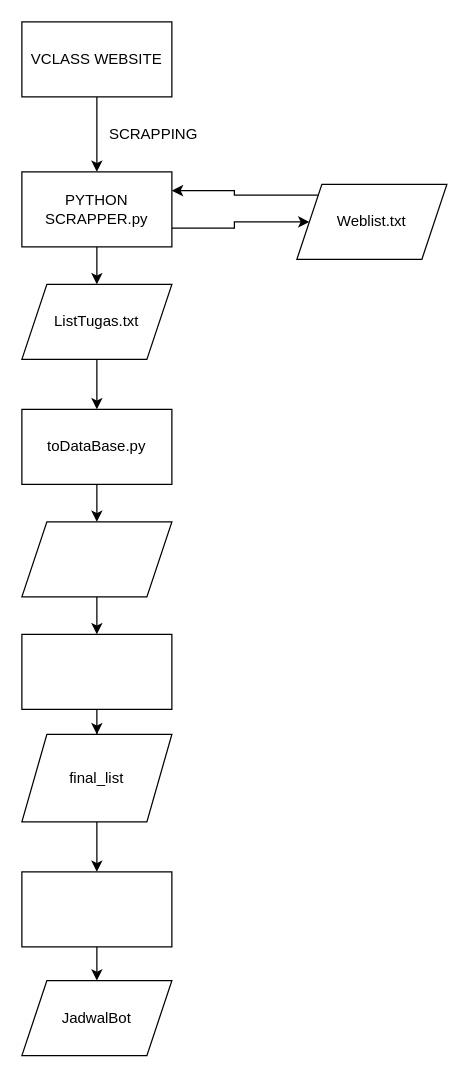
This 469x1078 diagram has some shape labels left out. Each missing label, with the centre of its shape:
SQL: point (96, 559)
TelegramBot.py: point (96, 909)
textConvert.py: point (96, 671)
